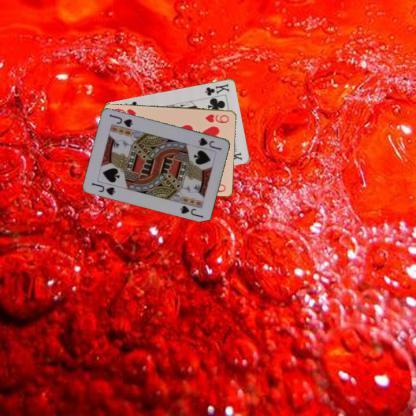9h: (203, 112, 230, 124)
Js: (89, 180, 117, 196), (196, 136, 223, 152)
Kc: (202, 80, 231, 96)
